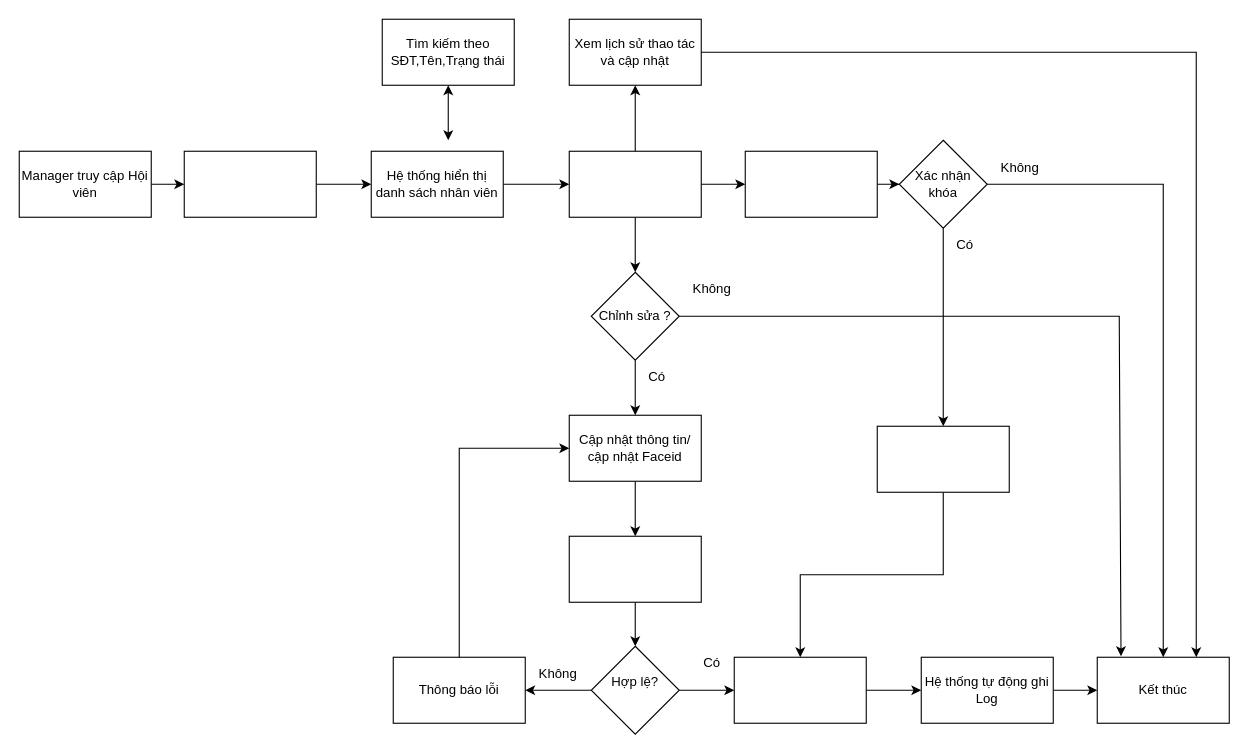
This 1249x754 diagram has some shape labels left out. The shapes that lost their labels are listed below. From the top down, each one's centre as x and y in pixels, then its label:
the point at 249,183: Danh sách hội viên
the point at 634,183: Xem chi tiêt hội viên
the point at 810,183: Khóa hội viên
the point at 942,458: Nhập lý do khóa
the point at 634,568: Hệ thống kiểm tra dữ liệu
the point at 799,689: Lưu hệ thống
